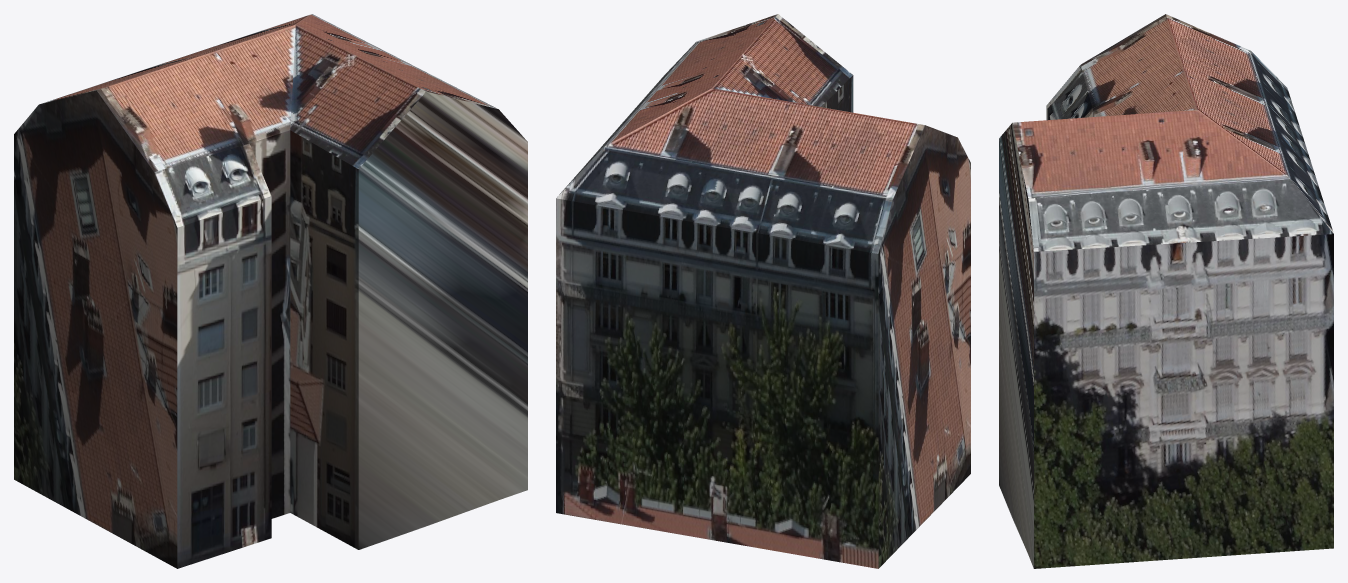
The picture shows the model from 3 angles, left to right: view 1: azimuth 30°, elevation 25°; view 2: azimuth 150°, elevation 25°; view 3: azimuth 270°, elevation 25°; orthographic projection. The views are drawn at different scales.
Parts seen in each view (by area): view 1: Z_UP; view 2: Z_UP; view 3: Z_UP.
Part boxes in pixels (left/top/right/bottom): Z_UP: left=14, top=14, right=527, bottom=568; Z_UP: left=556, top=14, right=970, bottom=568; Z_UP: left=999, top=14, right=1333, bottom=568.
Size of the model in its own units: 26.42 by 29.31 by 22.47.
Materials: 2 (1 with a texture image).
